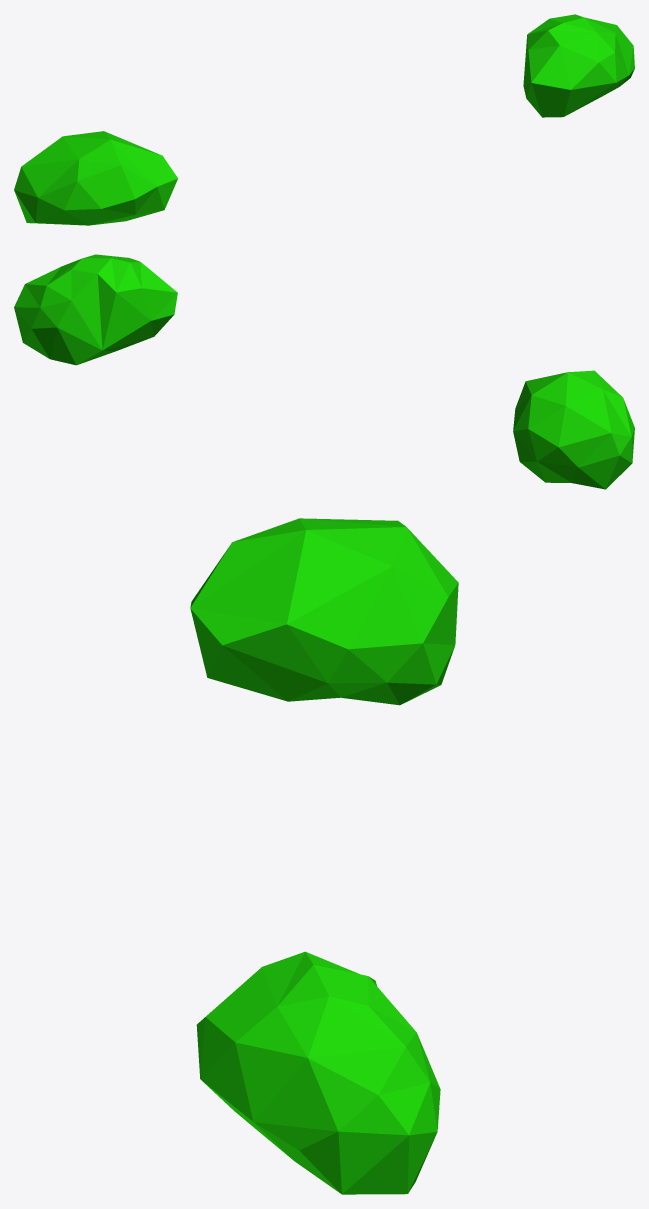
File: 34-AO-anterior olfactory nucleus-('0.1137', '1.0000', '0.0000').obj
The picture shows the model from 3 angles, top to bottom: view 1: azimuth 30°, elevation 25°; view 2: azimuth 150°, elevation 25°; view 3: azimuth 270°, elevation 25°; orthographic projection. The views are drawn at different scales.
Size of the model in its own units: 77.39 by 11.12 by 14.85.
